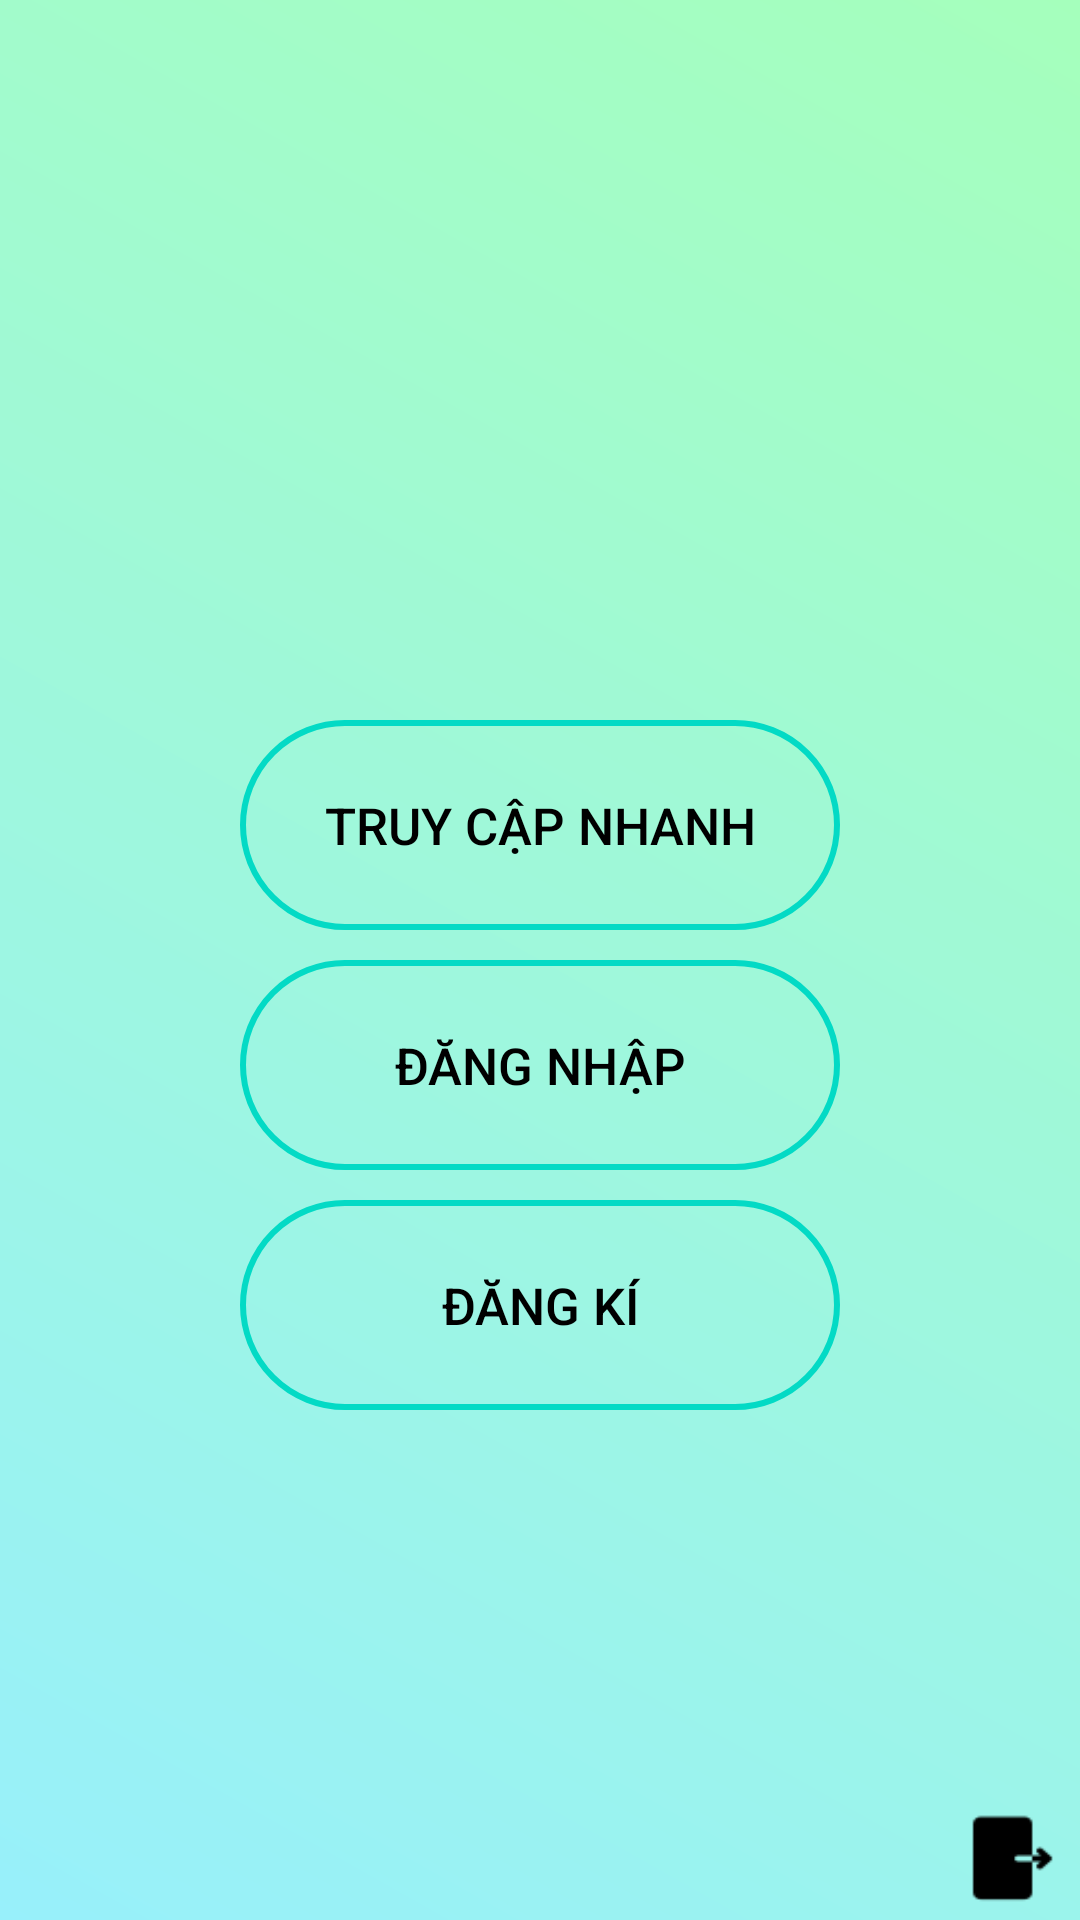

Named icons in this screenshot (1080px×1920px) and their centers, (x=x, y=y):
exit: (x=1012, y=1858)
